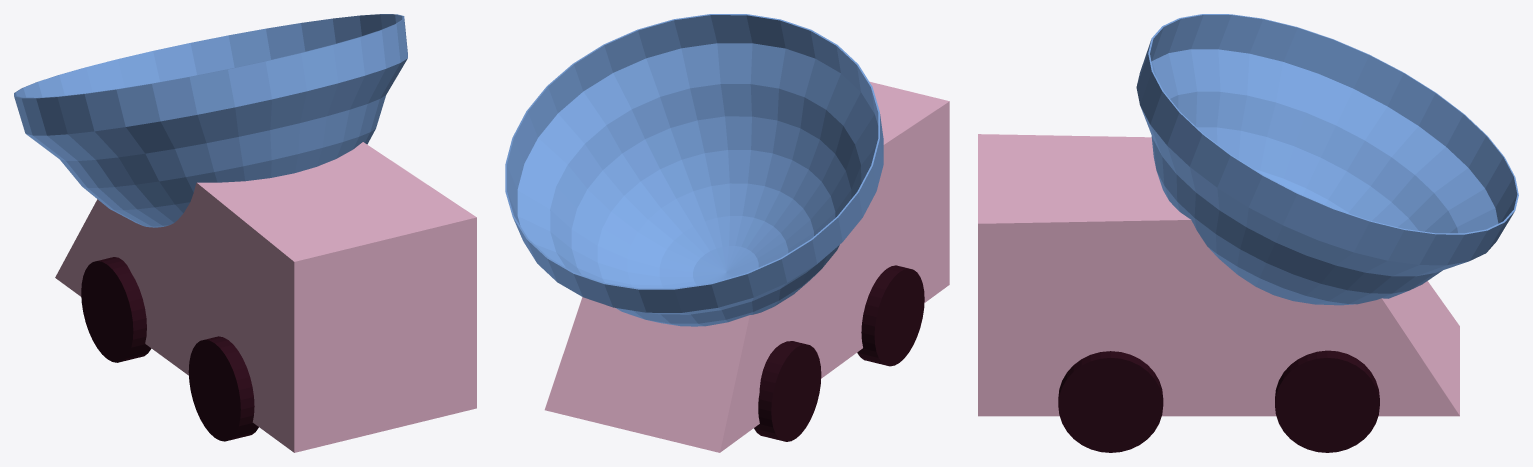
The model's file is recycler.glb.
3 views of the same model, side by side, from view 1: azimuth 30°, elevation 25°; view 2: azimuth 150°, elevation 25°; view 3: azimuth 270°, elevation 25° (orthographic). The views are drawn at different scales.
Parts seen in each view (by area): view 1: Cube, Sphere, Circle; view 2: Sphere, Cube, Circle; view 3: Cube, Sphere, Circle.
Boxes of the visible parts, x1,y1,x2,y2 form: Cube: (55,142,476,452); Sphere: (14,14,407,227); Circle: (81,257,258,441); Sphere: (505,14,883,326); Cube: (544,81,949,452); Circle: (754,265,924,441); Cube: (978,134,1459,416); Sphere: (1136,14,1518,305); Circle: (1058,350,1379,452).
Bounding box in the file's own units: 9.48 × 9.05 × 12.74.
